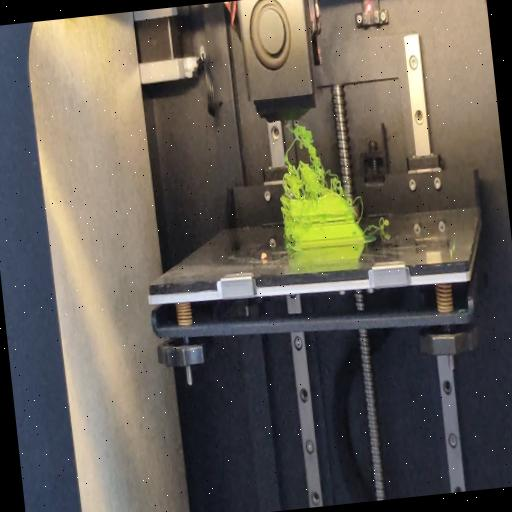spaghetti: (276, 118, 343, 202), (280, 200, 295, 252), (363, 216, 393, 237), (352, 190, 368, 223)
